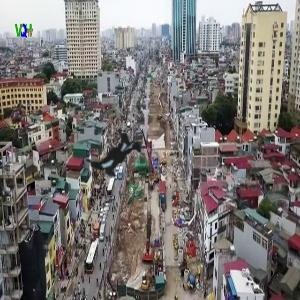drone: (41, 77, 197, 233)
